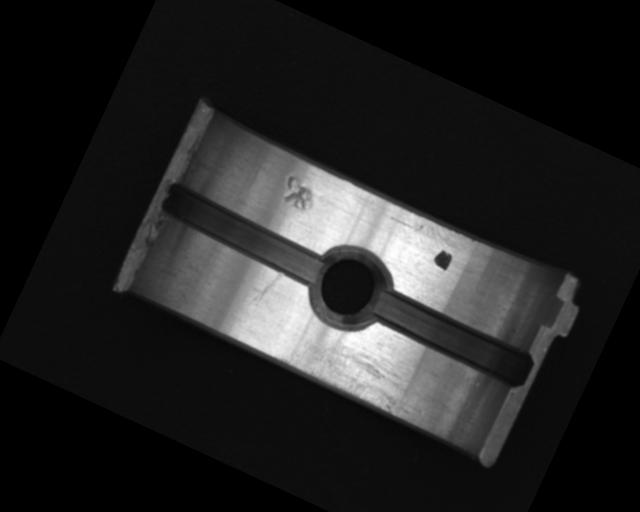blot: (430, 247, 455, 272)
bruise: (277, 173, 320, 214)
gap: (154, 176, 334, 291), (367, 285, 538, 392)
hole: (296, 234, 401, 341)
nick: (243, 264, 286, 321)
scratch: (275, 315, 441, 430)
